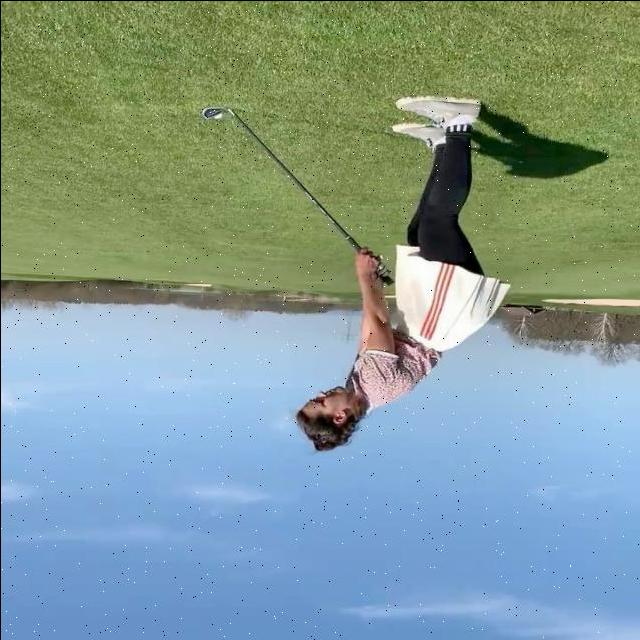golf ball: (213, 112, 221, 118)
golf club-handle: (200, 106, 394, 286)
golf club-head: (201, 106, 225, 117)
